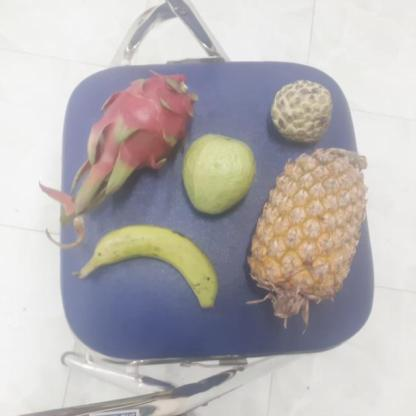annona: (268, 79, 333, 142)
banana: (74, 226, 221, 303)
guava: (179, 134, 256, 214)
pineapple: (247, 148, 365, 303)
pitaya: (90, 72, 195, 174)
